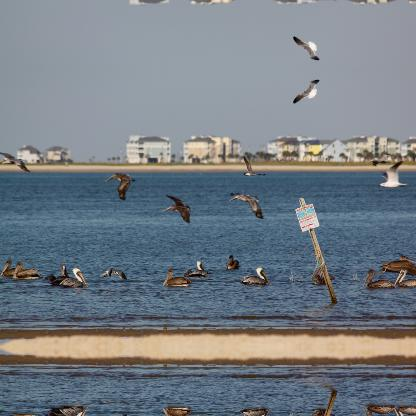Bird: (376, 158, 410, 188), (228, 191, 264, 217), (294, 74, 324, 102), (104, 170, 134, 198), (294, 36, 324, 64), (163, 193, 189, 221), (57, 265, 87, 289), (0, 149, 32, 171), (362, 267, 394, 287), (240, 264, 270, 284), (161, 266, 191, 284), (45, 261, 69, 283), (12, 260, 40, 278), (0, 256, 23, 277), (184, 259, 208, 279), (243, 154, 266, 174), (393, 266, 415, 286), (57, 403, 88, 415), (100, 266, 126, 280), (362, 405, 395, 415), (366, 154, 390, 166), (161, 407, 192, 415), (393, 405, 416, 415), (225, 253, 239, 269), (240, 408, 270, 415), (45, 409, 70, 415), (100, 411, 127, 415)
